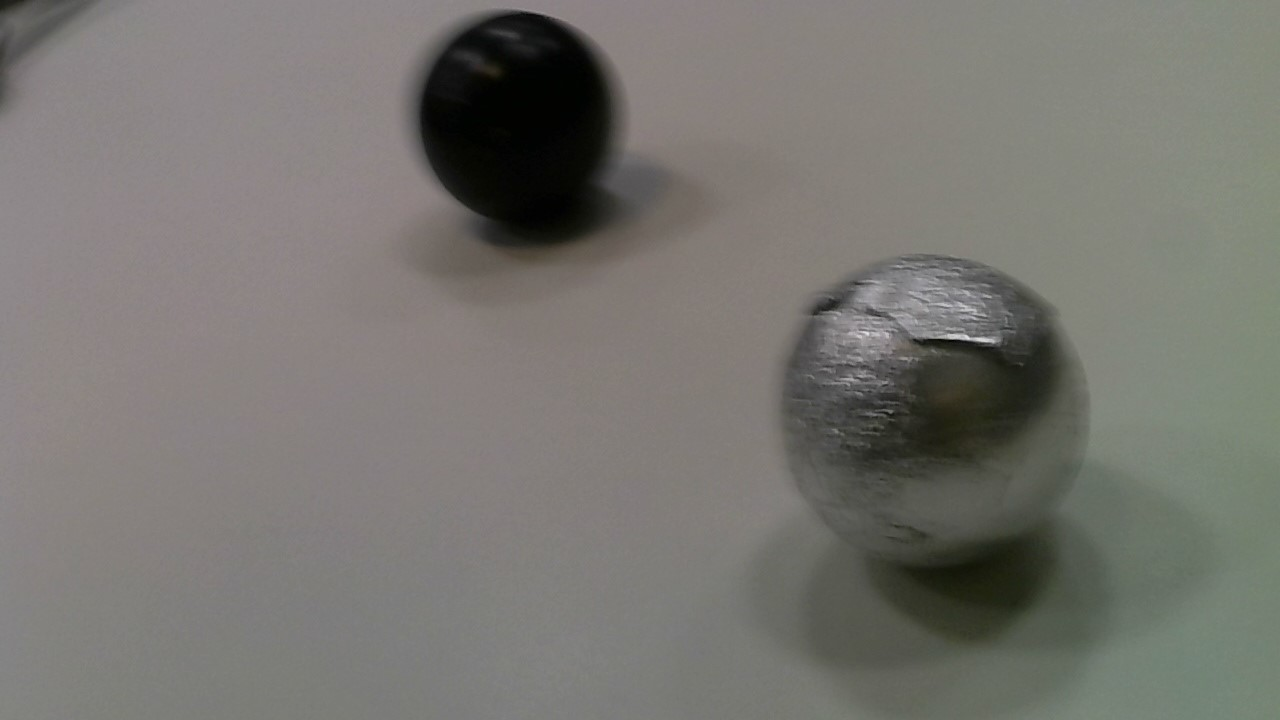black_ball: (414, 1, 629, 233)
silver_ball: (773, 242, 1092, 581)
